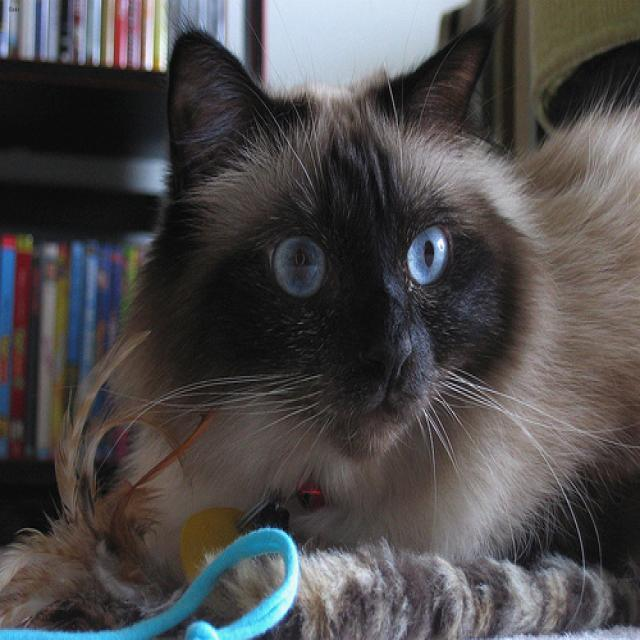Birman: (164, 10, 523, 455)
